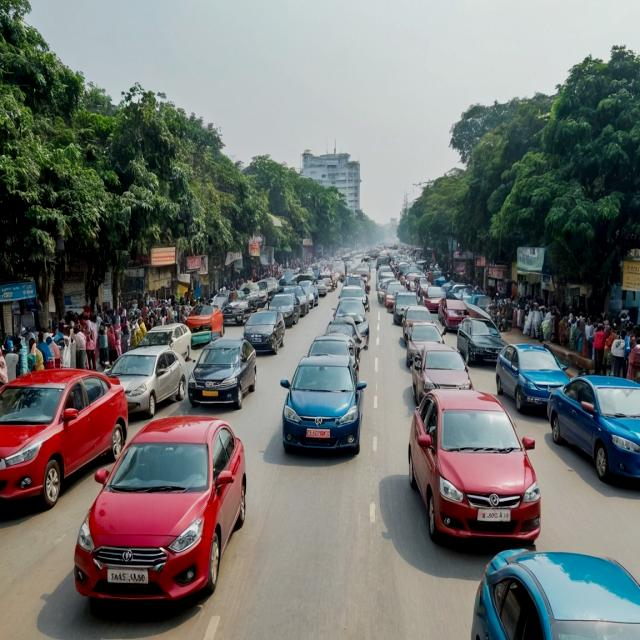black: (190, 338, 254, 409), (458, 317, 506, 362), (305, 333, 359, 370), (246, 310, 283, 356), (334, 298, 369, 329)
blue: (473, 540, 640, 640), (552, 370, 640, 482), (286, 357, 362, 462), (495, 342, 566, 404)
maroon: (412, 344, 474, 400), (406, 325, 448, 361), (441, 298, 477, 324), (400, 307, 434, 332)
red: (74, 421, 245, 609), (404, 387, 540, 546), (0, 366, 129, 507)
silver: (103, 345, 188, 414)
